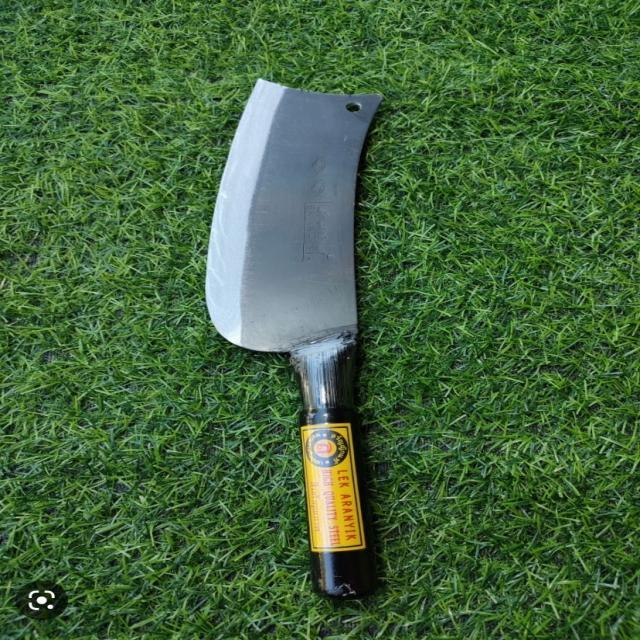Knife: (199, 75, 398, 604)
